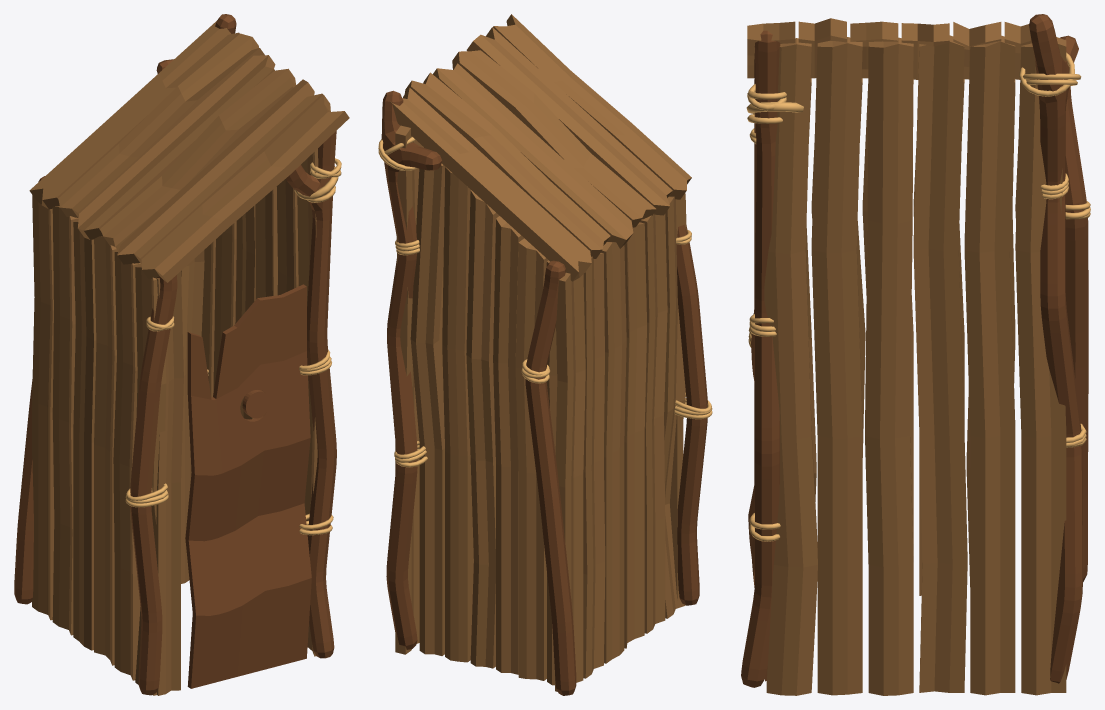
Rendered from wc_shrek 1.fbx.
3 views of the same model, side by side, from view 1: azimuth 30°, elevation 25°; view 2: azimuth 150°, elevation 25°; view 3: azimuth 270°, elevation 25° (orthographic). The views are drawn at different scales.
Parts seen in each view (by area): view 1: wc_shrek; view 2: wc_shrek; view 3: wc_shrek.
Part boxes in pixels (x1,y1,x2,y2): wc_shrek: (14,14,349,695); wc_shrek: (378,14,712,695); wc_shrek: (741,14,1090,695).
Size of the model in its own units: 96.05 by 232 by 107.
